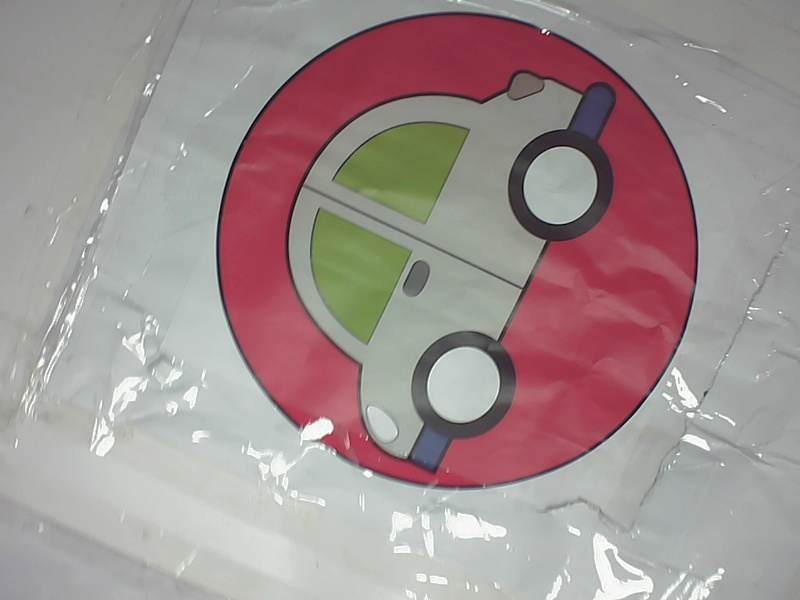areaC: (206, 12, 715, 496)
